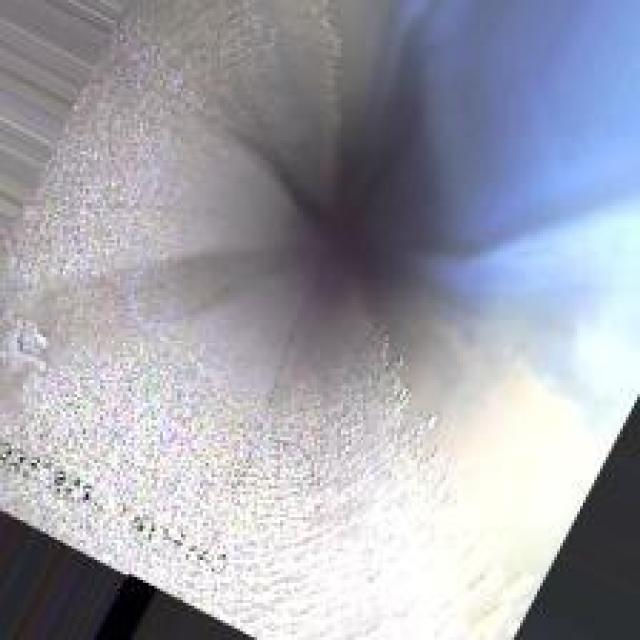ferrule: (3, 303, 46, 366)
